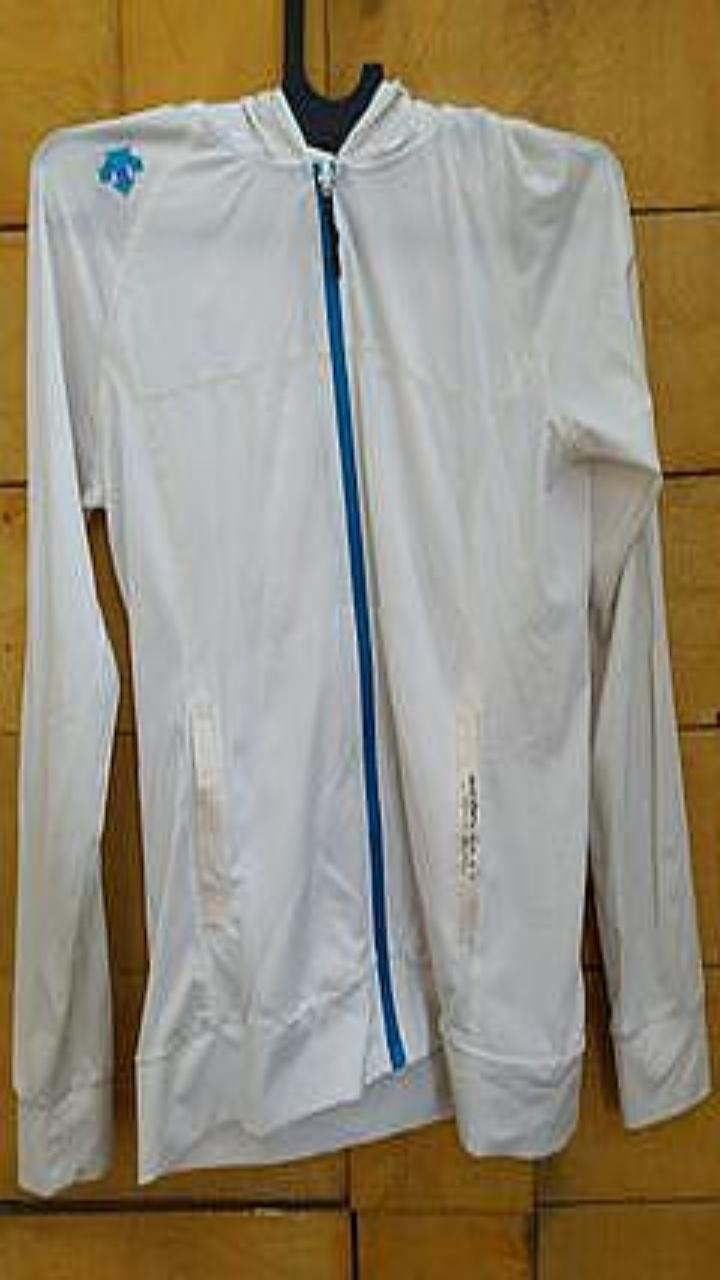Sports_Jacket: (12, 78, 710, 1194)
